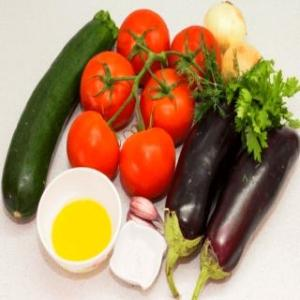eggplant: (190, 116, 300, 300), (163, 92, 259, 298)
garlic: (124, 192, 167, 238)
onion: (200, 0, 248, 54), (219, 38, 269, 86)
tomato: (79, 46, 139, 132), (116, 123, 176, 203), (116, 5, 172, 80), (62, 109, 120, 181), (166, 22, 222, 94)
zucchini: (1, 8, 125, 230)
